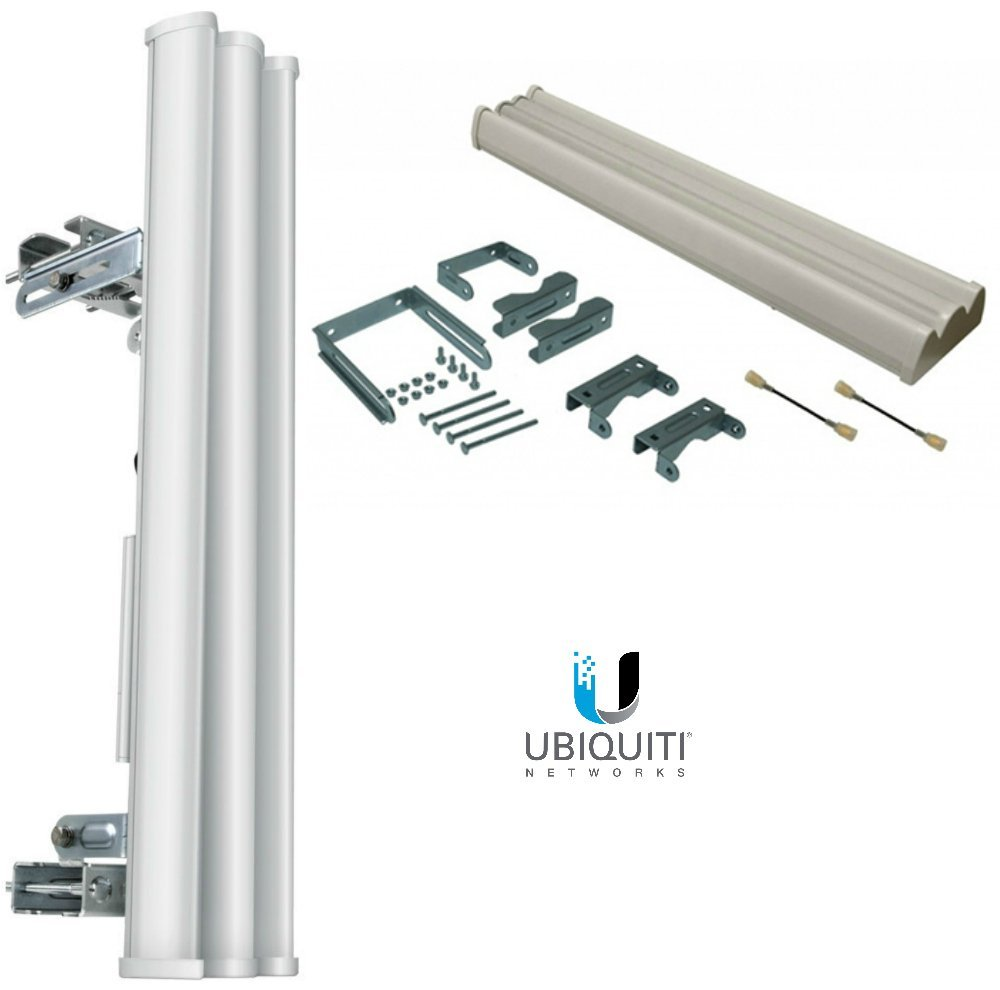sa: (35, 31, 327, 981)
